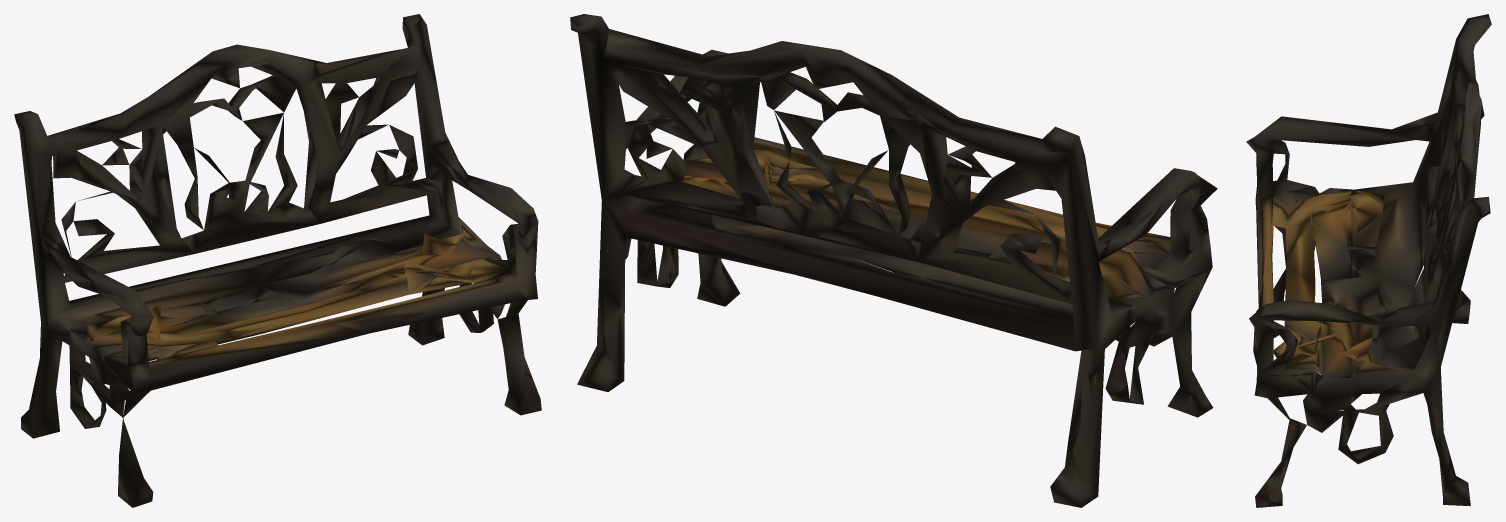
Rendered from gen3d-cemetery-bench-lod1.glb.
The picture shows the model from 3 angles, left to right: view 1: azimuth 30°, elevation 25°; view 2: azimuth 150°, elevation 25°; view 3: azimuth 270°, elevation 25°; orthographic projection. The views are drawn at different scales.
Visible parts, largest first — view 1: part_0; view 2: part_0; view 3: part_0.
Part boxes in pixels (left/top/right/bottom): part_0: left=14, top=14, right=541, bottom=507; part_0: left=570, top=14, right=1217, bottom=507; part_0: left=1246, top=14, right=1491, bottom=507.
Size of the model in its own units: 1.3 by 0.9932 by 0.6882.
